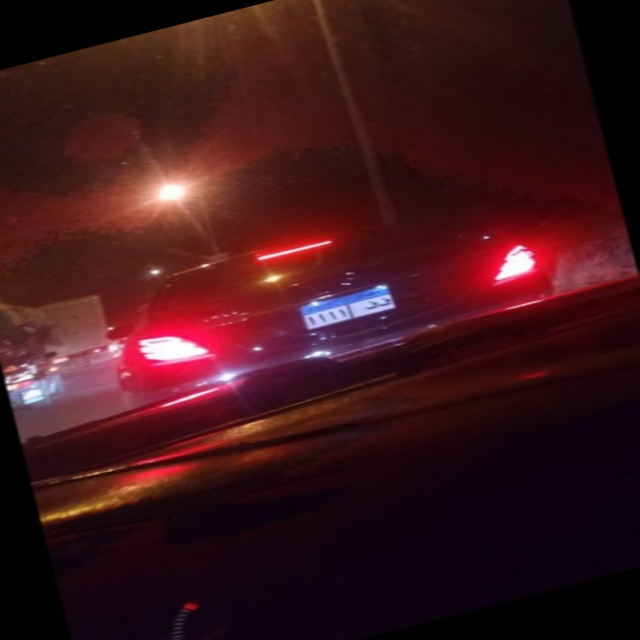License Plate: (297, 282, 399, 334)
